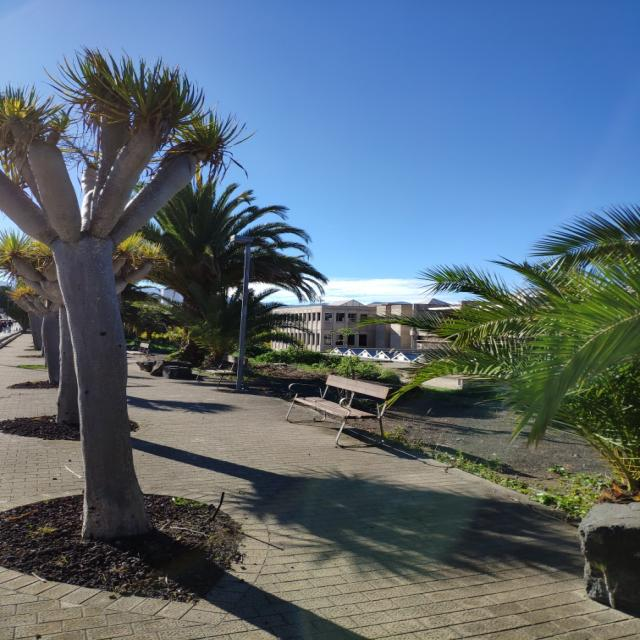Palm-Trees: (97, 179, 320, 364)
